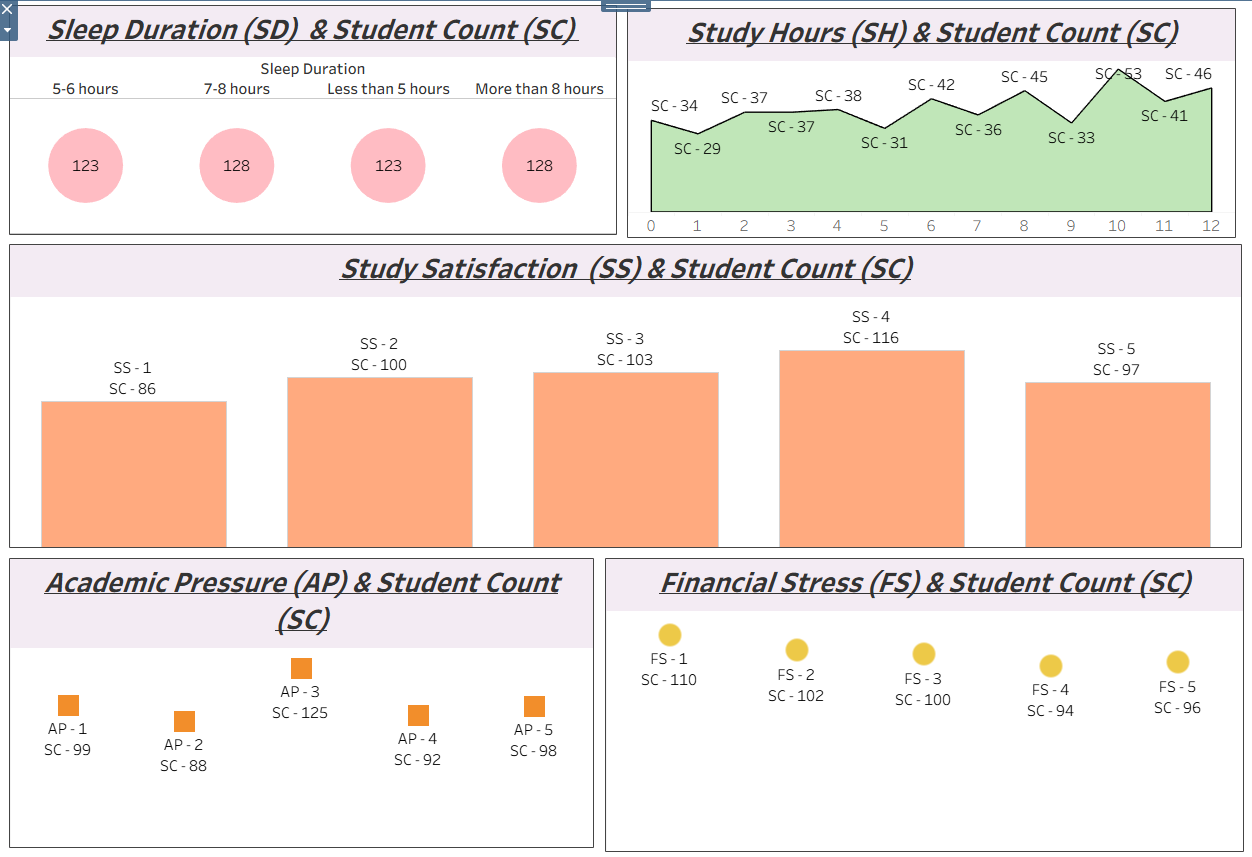

The page's visual inventory and layout, read from the dashboard file:
{"tool":"tableau","page":{"name":"Dashboard 1","canvas":[1000,1000],"units":"permille","ordinal":0},"visuals":[{"type":"worksheet","title":"SD & SC","mark":"Pie","cols":["Sleep_Duration"],"box":[8.8,7,483.7,267.1]},{"type":"worksheet","title":"SH & SC","mark":"Area","rows":["Index_Column"],"cols":["Study_Hours"],"box":[500.4,10.5,484.5,267.1]},{"type":"worksheet","title":"SS & SC","mark":"Automatic","rows":["Index_Column"],"cols":["Study_Satisfaction"],"box":[8.8,284.6,980.9,353.1]},{"type":"worksheet","title":"AP & SC","mark":"Square","rows":["Index_Column"],"cols":["Academic_Pressure"],"box":[8.8,649.2,465.4,336.8]},{"type":"worksheet","title":"FS & SC","mark":"Circle","rows":["Index_Column"],"cols":["Financial_Stress"],"box":[482.9,649.2,508.4,341.5]}]}

Visuals, with their boxes on the dashboard's canvas, which has no fixed pixel size, in thousandths of its width and height (x1, y1, x2, y2). These are canvas units, not pixel positions in the 1252x857 screenshot, which may show the page scaled, cropped or inside an application window:
"SD & SC" worksheet (Pie marks): locate(9, 7, 492, 274)
"SH & SC" worksheet (Area marks): locate(500, 10, 985, 278)
"SS & SC" worksheet: locate(9, 285, 990, 638)
"AP & SC" worksheet (Square marks): locate(9, 649, 474, 986)
"FS & SC" worksheet (Circle marks): locate(483, 649, 991, 991)
